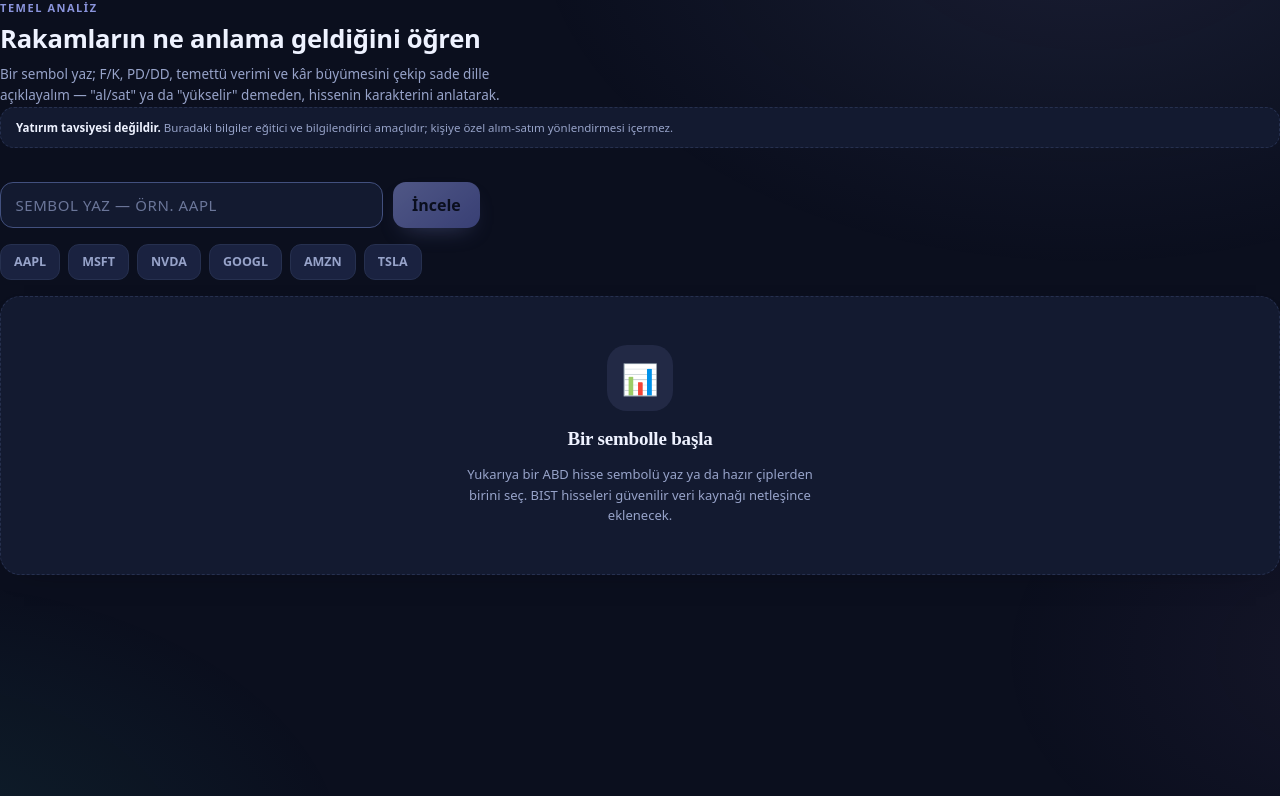
Test: StocksPage (T4.4) › çipe tıklayınca metrikler (tr-TR + bant) ve açıklama kartı gelir
Click the button "AAPL" at coordinates (30, 262), box [0, 244, 60, 280]
(page scrolled)
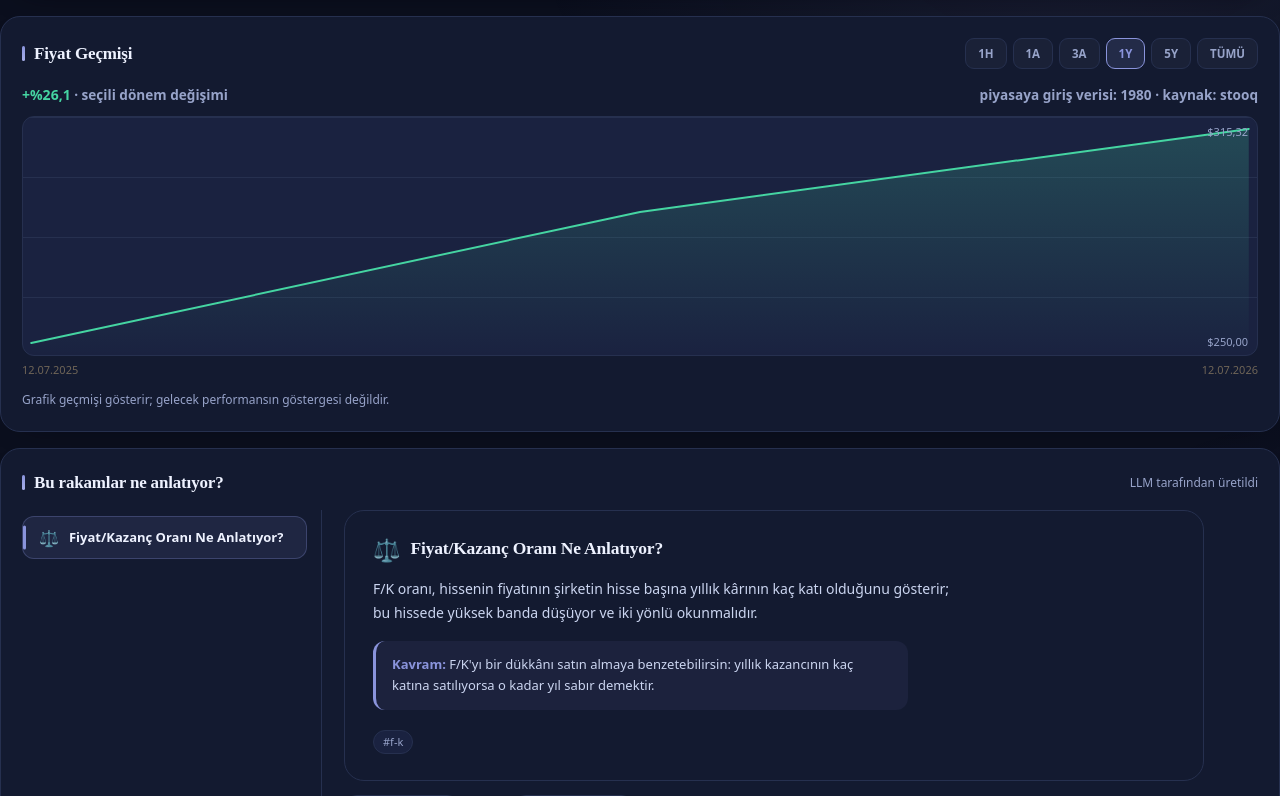
Result: the heading "Fiyat/Kazanç Oranı Ne Anlatıyor?" is shown at [410, 538, 663, 561]
Result: the text "LLM tarafından üretildi" is shown at [1130, 474, 1258, 492]
Result: the button "TÜMÜ" is shown at [1197, 38, 1258, 70]
